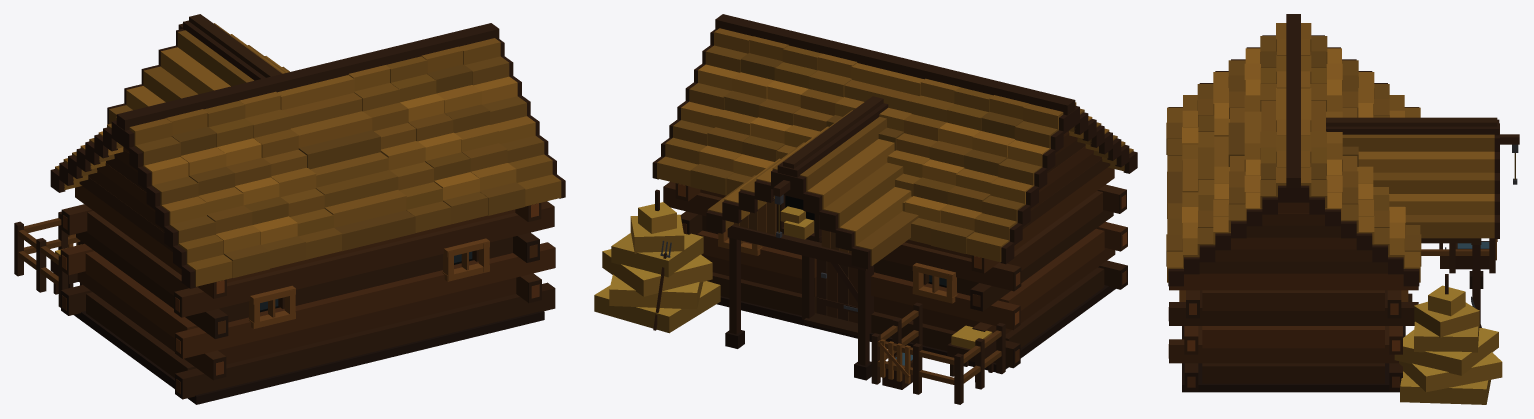
The model's file is LivestockFarm.glb.
3 views of the same model, side by side, from view 1: azimuth 30°, elevation 25°; view 2: azimuth 150°, elevation 25°; view 3: azimuth 270°, elevation 25° (orthographic). The views are drawn at different scales.
Parts seen in each view (by area): view 1: LivestockFarm; view 2: LivestockFarm, LivestockFarmDoor; view 3: LivestockFarm.
Boxes of the visible parts, x1=… form: LivestockFarm: x1=14, y1=14, x2=565, y2=404; LivestockFarm: x1=594, y1=14, x2=1137, y2=404; LivestockFarmDoor: x1=816, y1=241, x2=857, y2=323; LivestockFarm: x1=1166, y1=14, x2=1519, y2=404.
Size of the model in its own units: 9.28 by 5.32 by 7.74.
